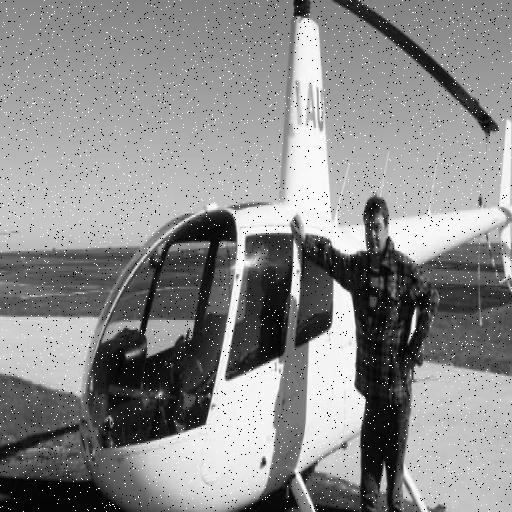helicopter: (75, 1, 512, 512)
